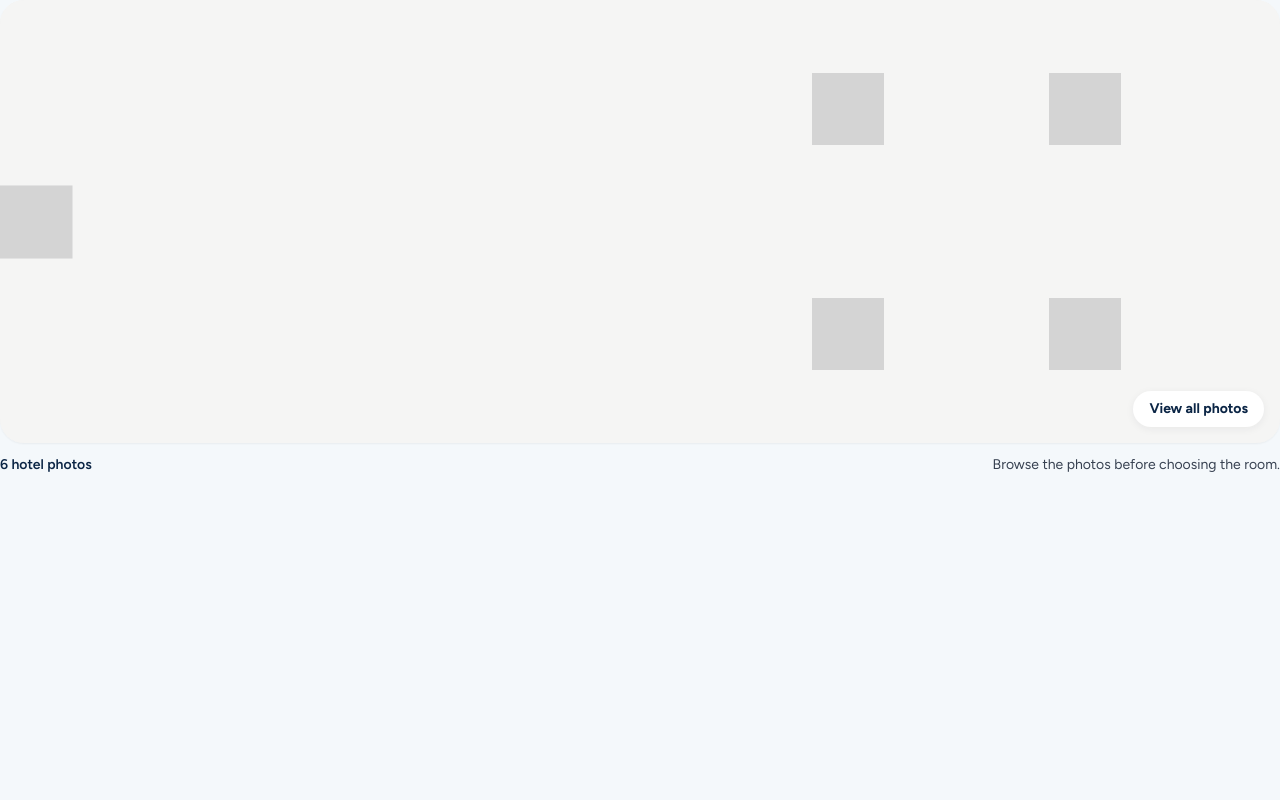
Test: StayPhotoGallery › uses the view-all control to open the same lightbox
Click the button "View all photos" at {"x": 1199, "y": 409}, box [1133,391,1264,427]
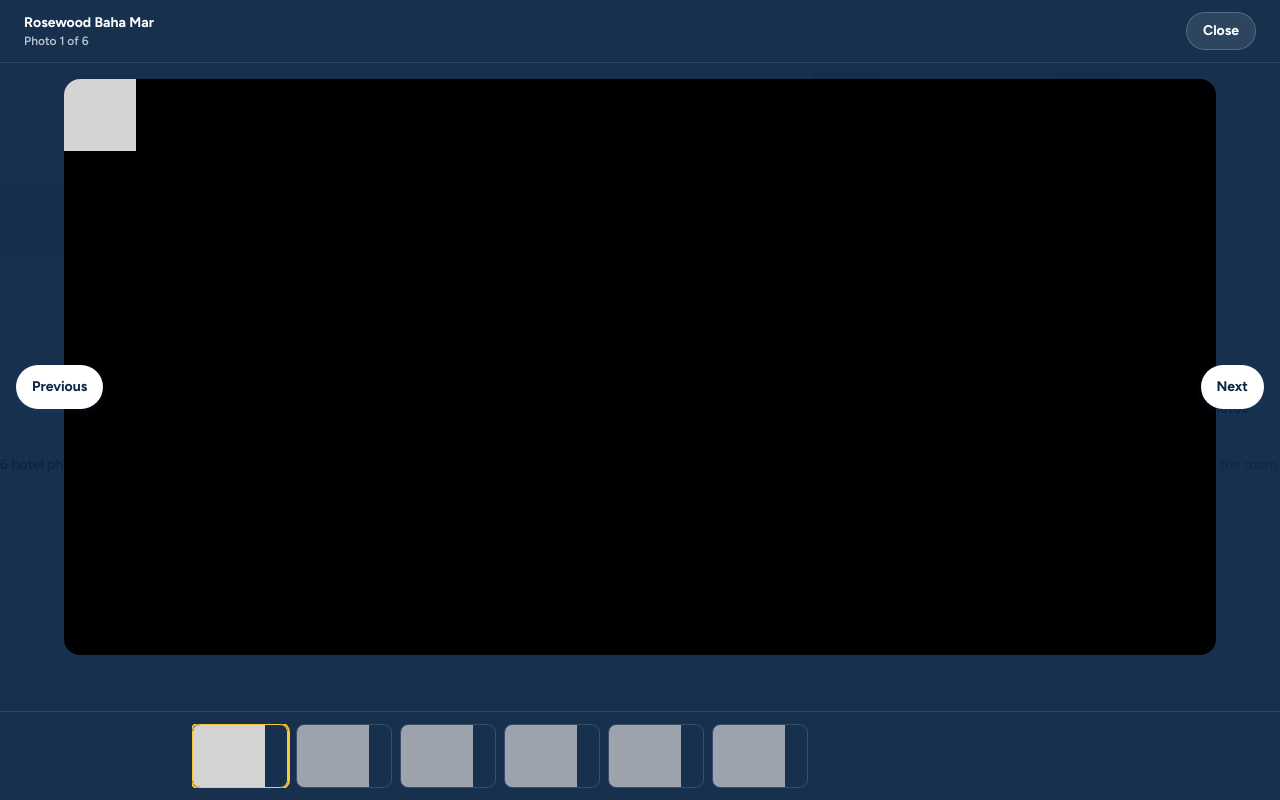
Expected: the dialog named "Rosewood Baha Mar photo gallery" is shown
Expected: the text "Photo 1 of 6" is shown, [24,34,89,48]
